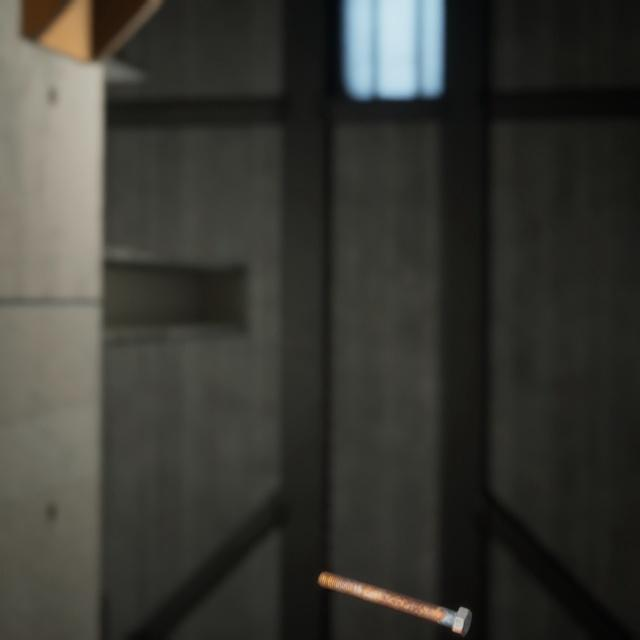bolt: (313, 545, 476, 619)
